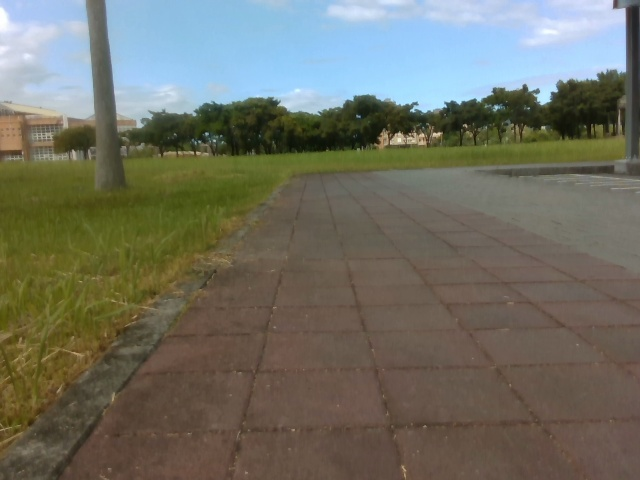grass: (0, 135, 639, 479), (119, 69, 626, 154)
road: (61, 176, 436, 479)
sidewalk: (320, 165, 639, 479)
